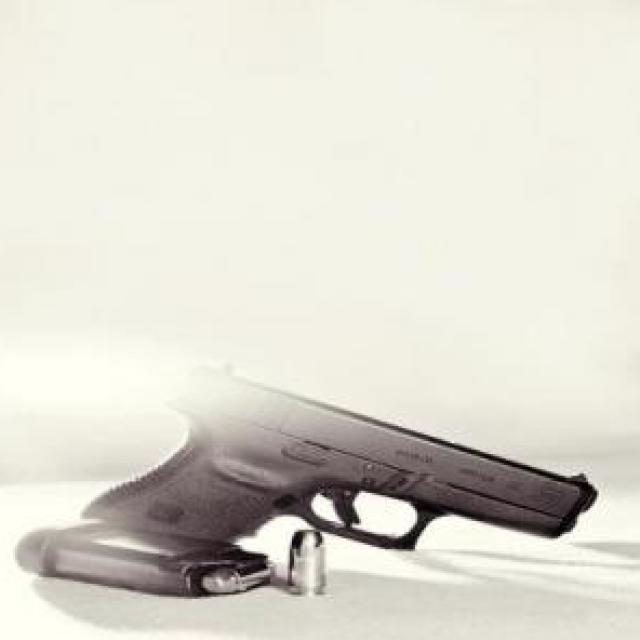pistol: (79, 363, 625, 552)
